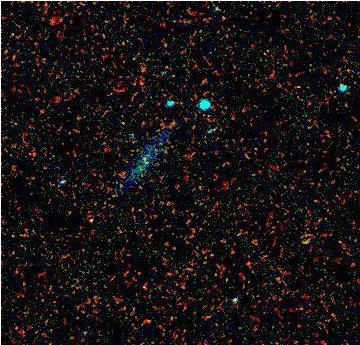star: (126, 269, 156, 299)
